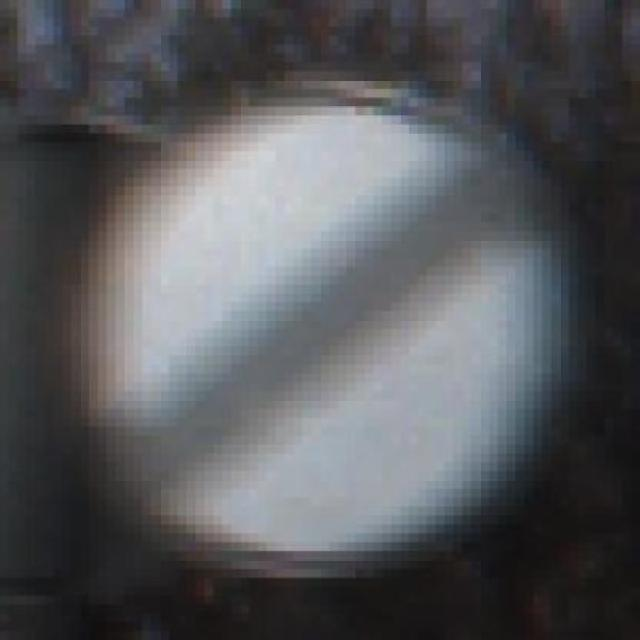End of all speed and passing limits: (79, 70, 587, 559)
